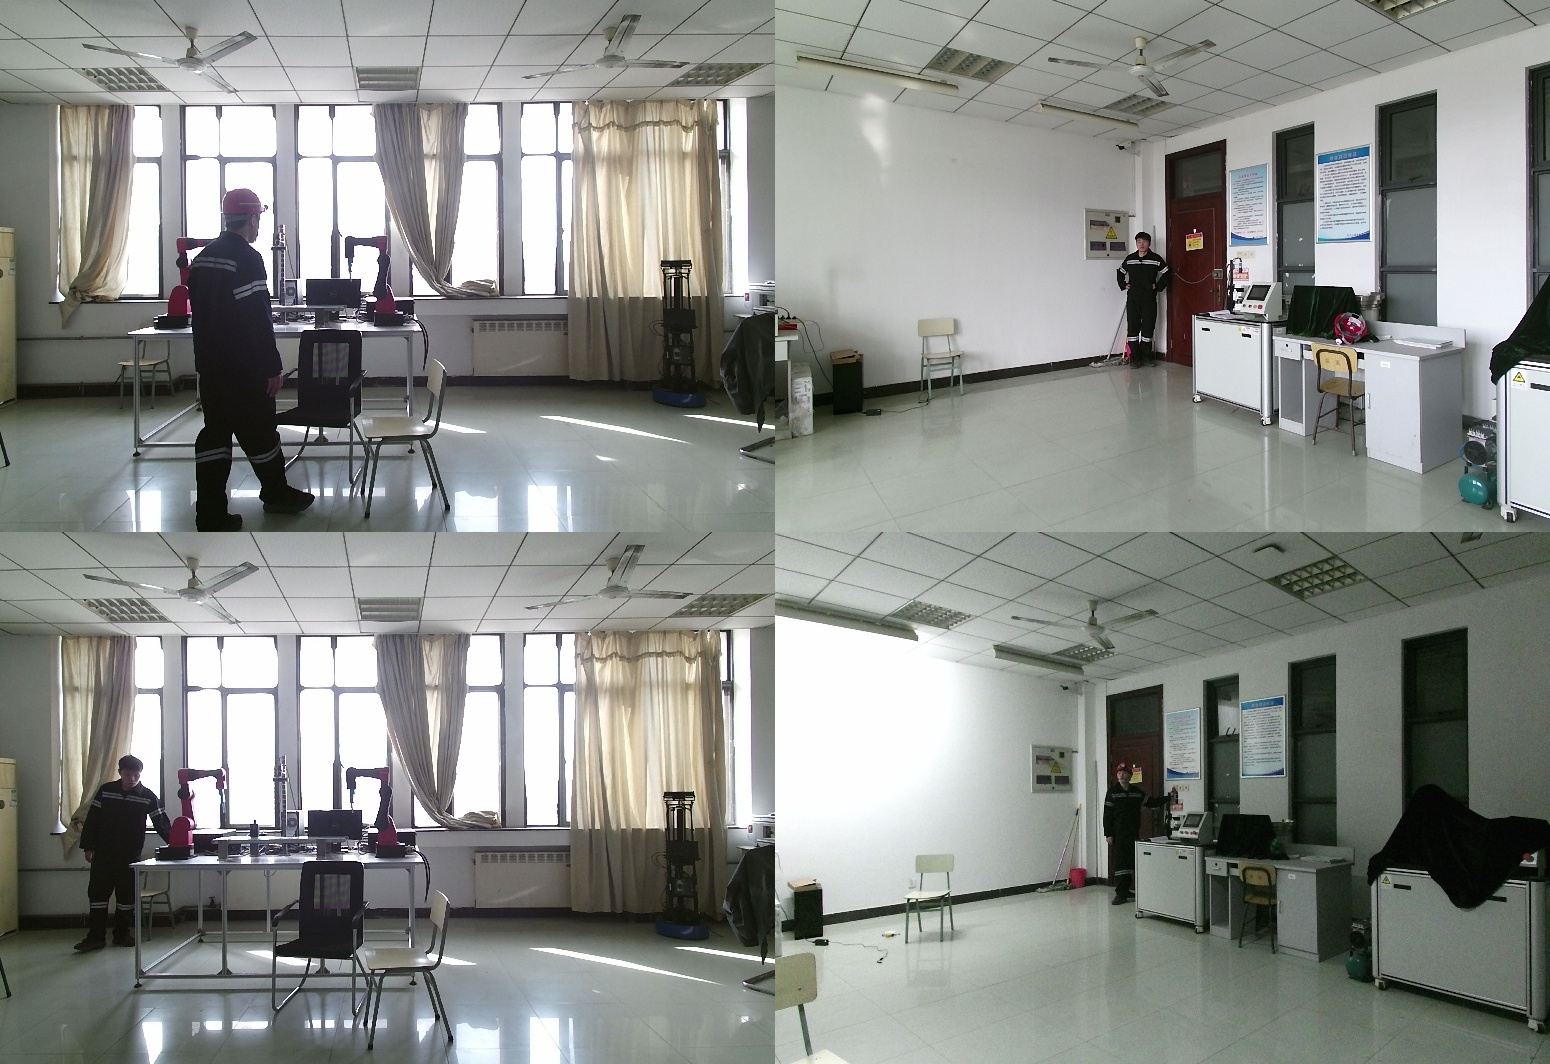person: (182, 187, 312, 532), (72, 758, 168, 951), (1097, 761, 1151, 909), (1114, 232, 1171, 367)
